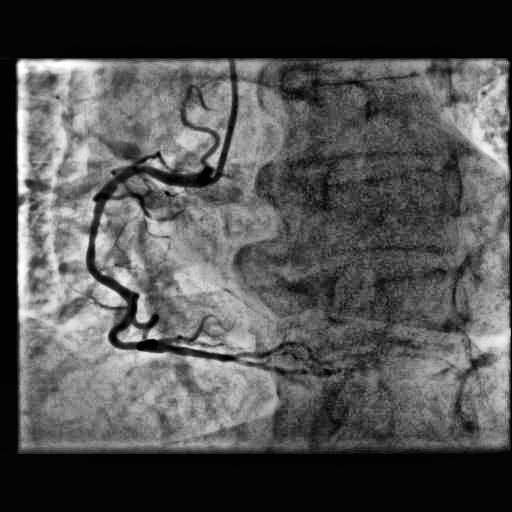pborca: (164, 315, 210, 344)
pda: (167, 341, 293, 360)
rca: (86, 166, 192, 352)
